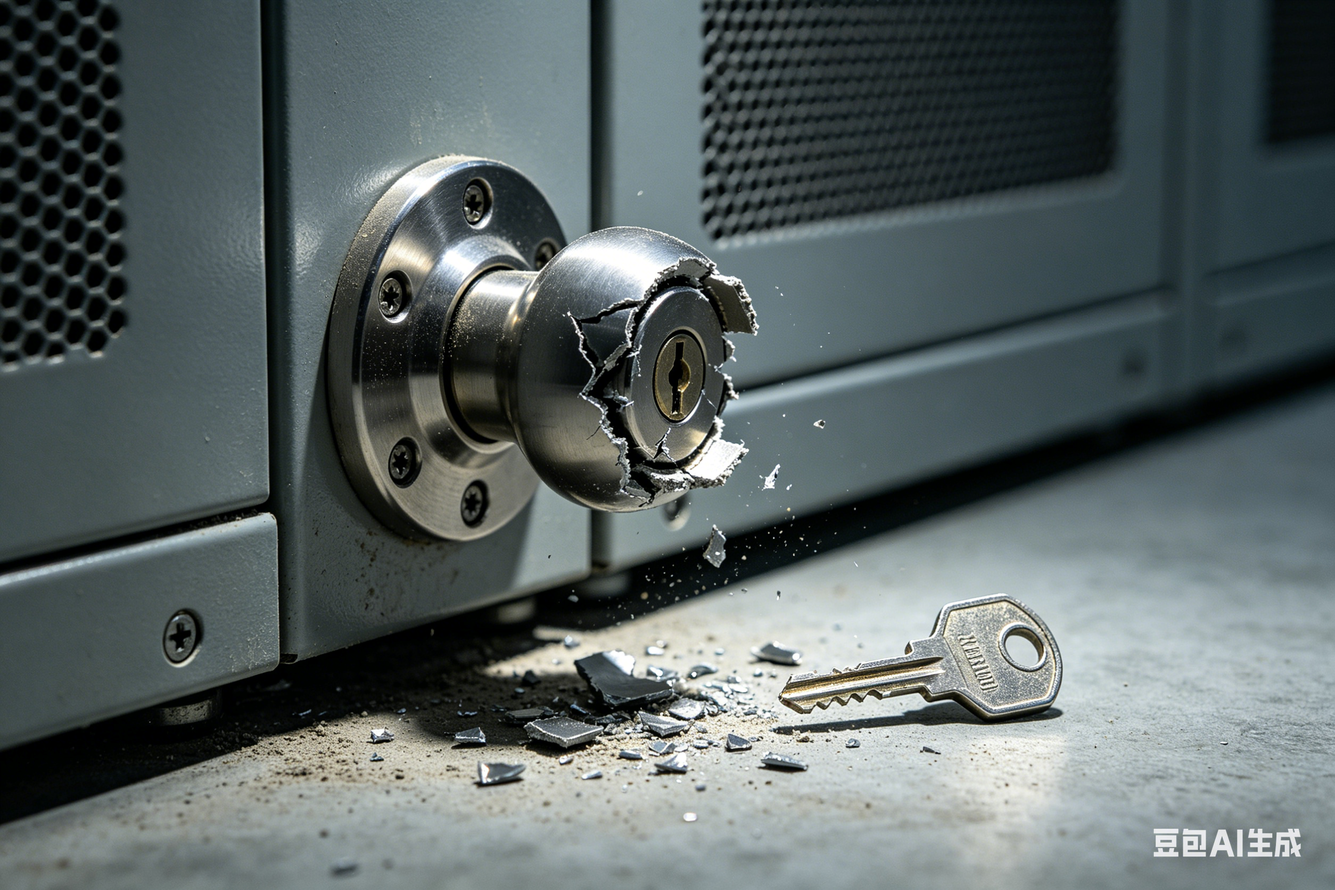BadLock: (568, 257, 750, 493)
